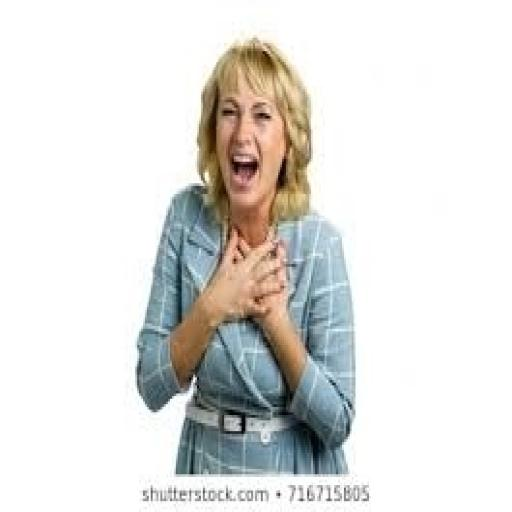laughing: (130, 30, 364, 474)
